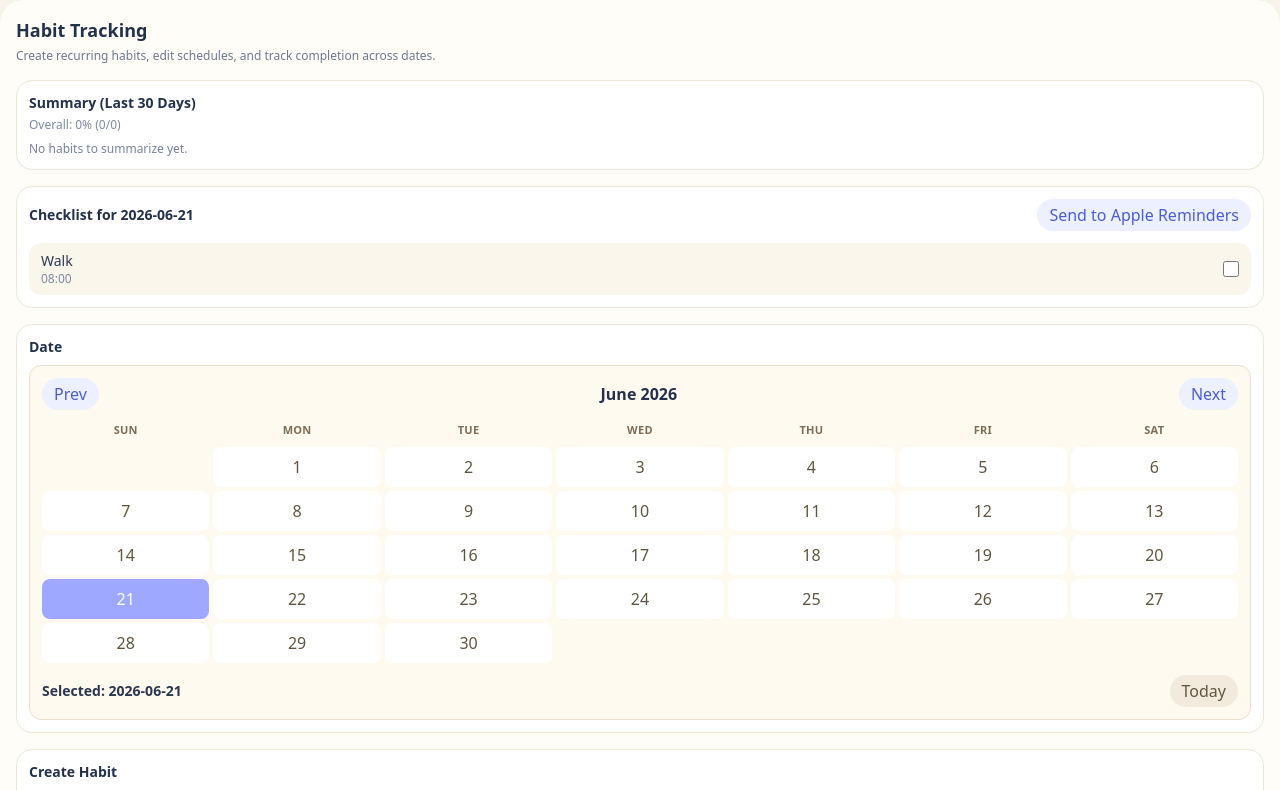
Test case: Habits notifications › shows an error when Apple Reminders sync fails
Expected: the heading "Checklist for 2026-06-21" is shown, x1=29 y1=205 x2=194 y2=225
Click the button "Send to Apple Reminders" at (1144, 215), box x1=1037 y1=199 x2=1251 y2=231
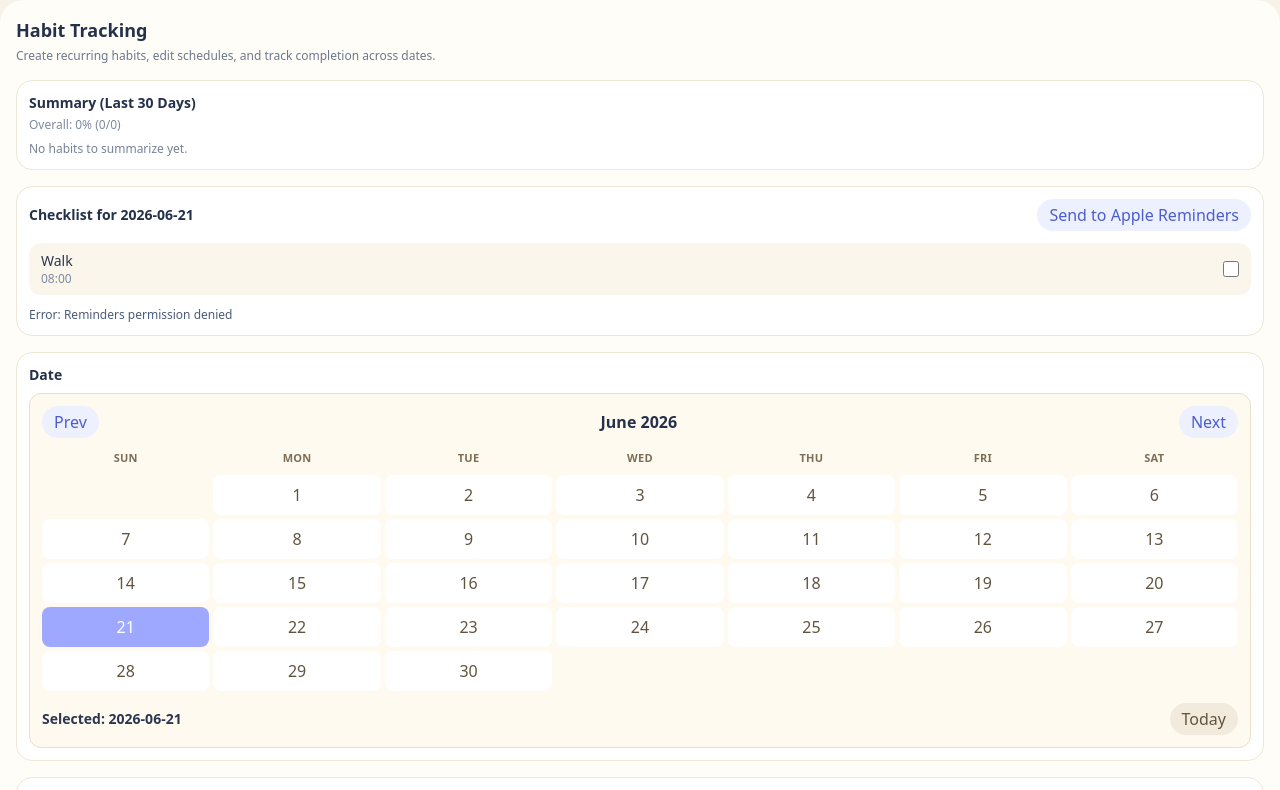
Now the text "Error: Reminders permission denied" is shown, box x1=29 y1=306 x2=232 y2=323
